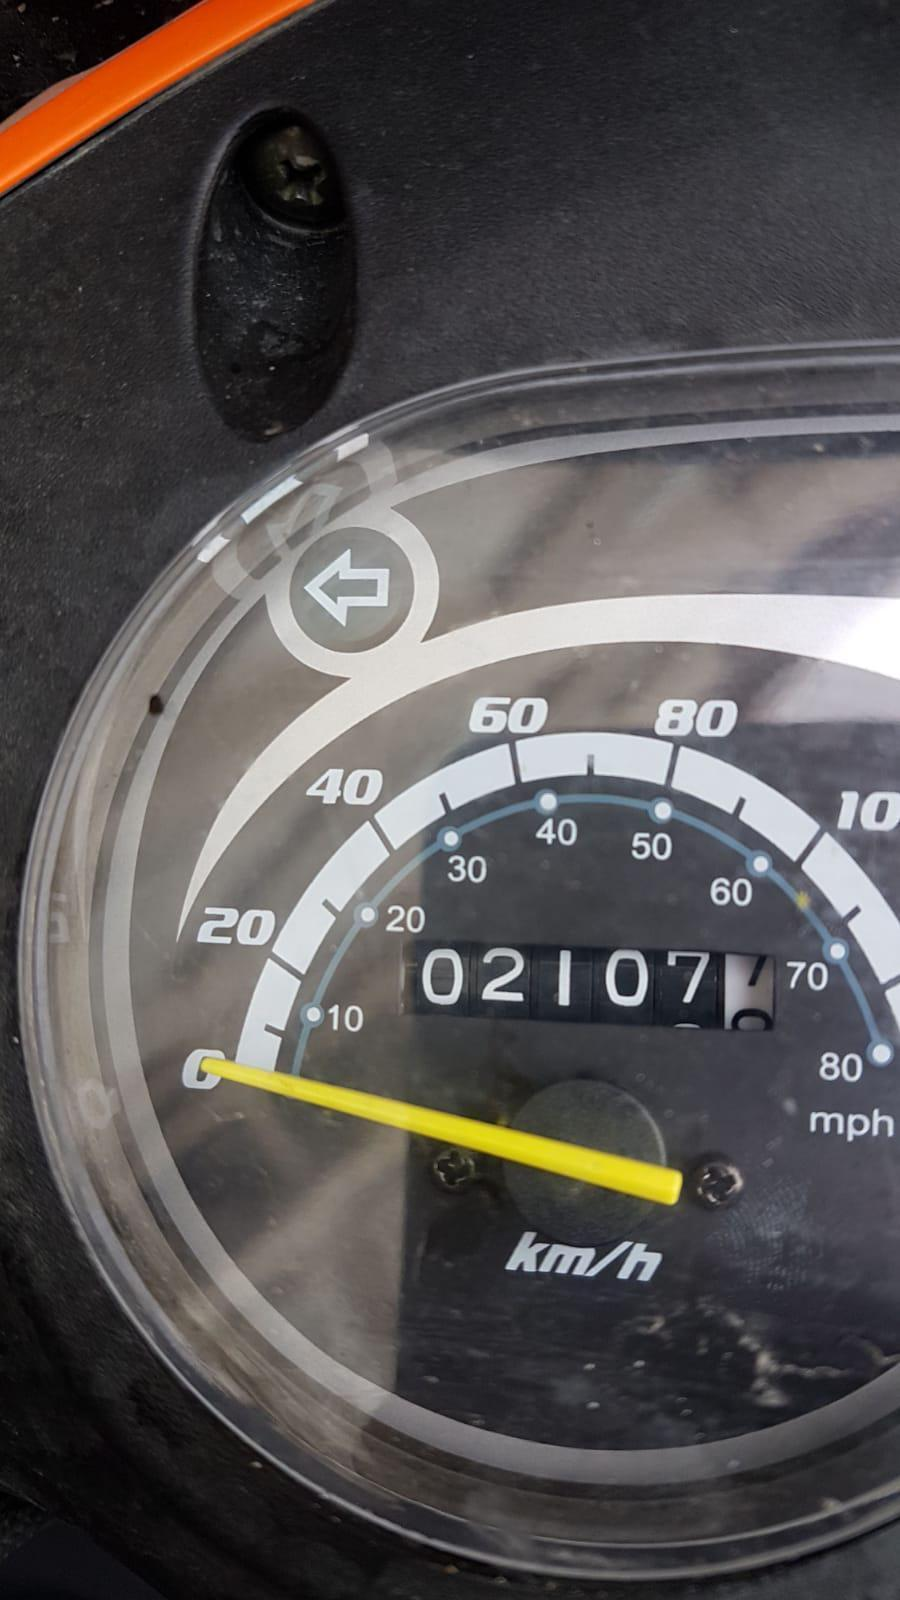0: (599, 942, 652, 1020), (416, 944, 466, 1016)
1: (549, 945, 579, 1020)
2: (480, 942, 527, 1013)
7: (663, 941, 713, 1012), (735, 938, 774, 998)
odometer: (398, 932, 784, 1040)
